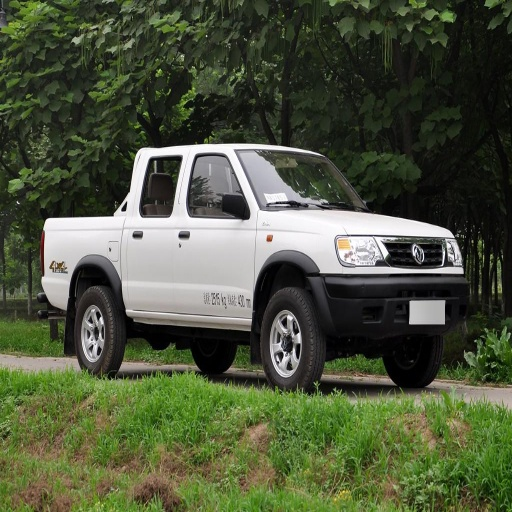front_bumper: (316, 235, 472, 339)
front_right_door: (174, 154, 254, 316)
front_right_light: (335, 233, 386, 269)
trunk: (45, 221, 121, 308)
